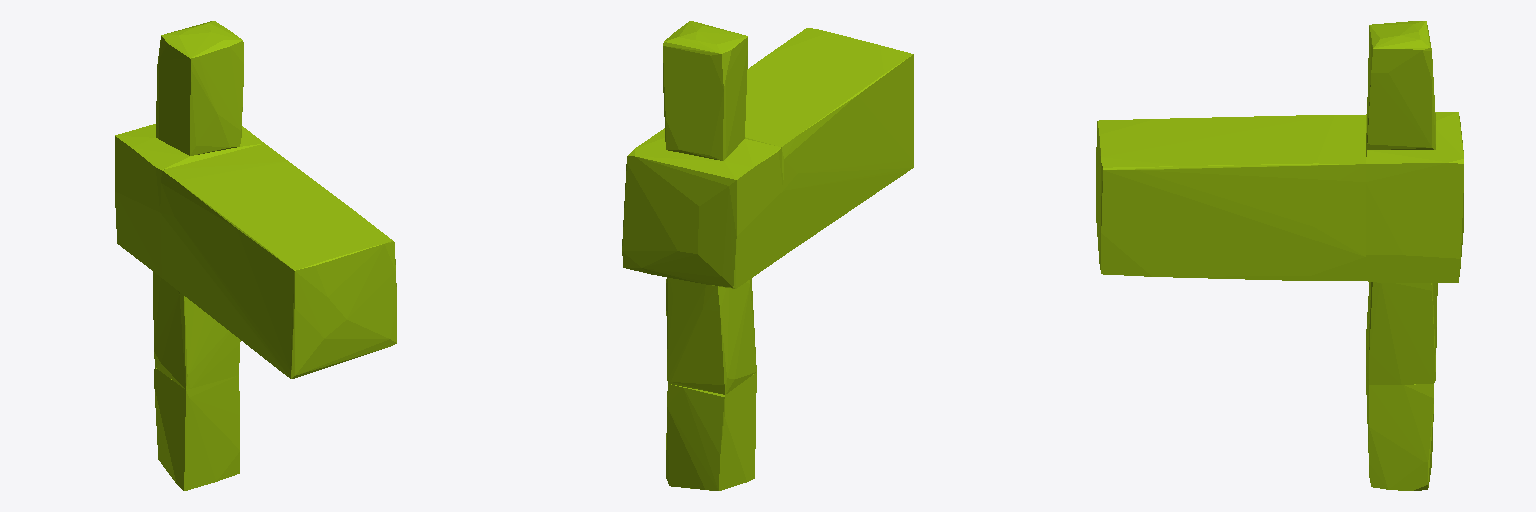
robot.urdf — blob464:
<robot name="blob464">
  <link name="random_obj_464">
    <contact>
      <lateral_friction value="1.0"/>
      <rolling_friction value="0.0"/>
      <inertia_scaling value="3.0"/>
      <contact_cfm value="0.0"/>
      <contact_erp value="1.0"/>
    </contact>
    <inertial>
      <origin rpy="0 0 0" xyz="0 0 0"/>
      <mass value="0.1"/>
      <inertia ixx="1" ixy="0" ixz="0" iyy="1" iyz="0" izz="0"/>
    </inertial>
    <visual>
      <origin rpy="0 0 0" xyz="0 0 0"/>
      <geometry>
        <mesh filename="464.obj" scale="0.015 0.015 0.015"/>
      </geometry>
      <material name="blockmat">
        <color rgba="0.63 0.78 0.10 1"/>
      </material>
    </visual>
    <collision>
      <origin rpy="0 0 0" xyz="0 0 0"/>
      <geometry>
        <mesh filename="464.obj" scale="0.015 0.015 0.015"/>
      </geometry>
    </collision>
  </link>
</robot>

--- Render facts (derived) ---
Views: 3 orthographic renders of the robot side by side, from view 1: azimuth 30°, elevation 25°; view 2: azimuth 150°, elevation 25°; view 3: azimuth 270°, elevation 25°.
Robot: blob464 — 1 links, 0 joints (none); root link random_obj_464; default pose: all joints at 0.
Visible links, largest first — view 1: random_obj_464; view 2: random_obj_464; view 3: random_obj_464.
Link boxes in pixels (bbox=[...]): random_obj_464: bbox=[115, 21, 396, 490]; random_obj_464: bbox=[622, 21, 913, 490]; random_obj_464: bbox=[1096, 21, 1463, 490].
Bounding box of the posed robot: 0.0326 × 0.0916 × 0.1228 m (x, y, z).
Meshes: 1 distinct files referenced, 1 mesh visuals loaded (1 OBJ).